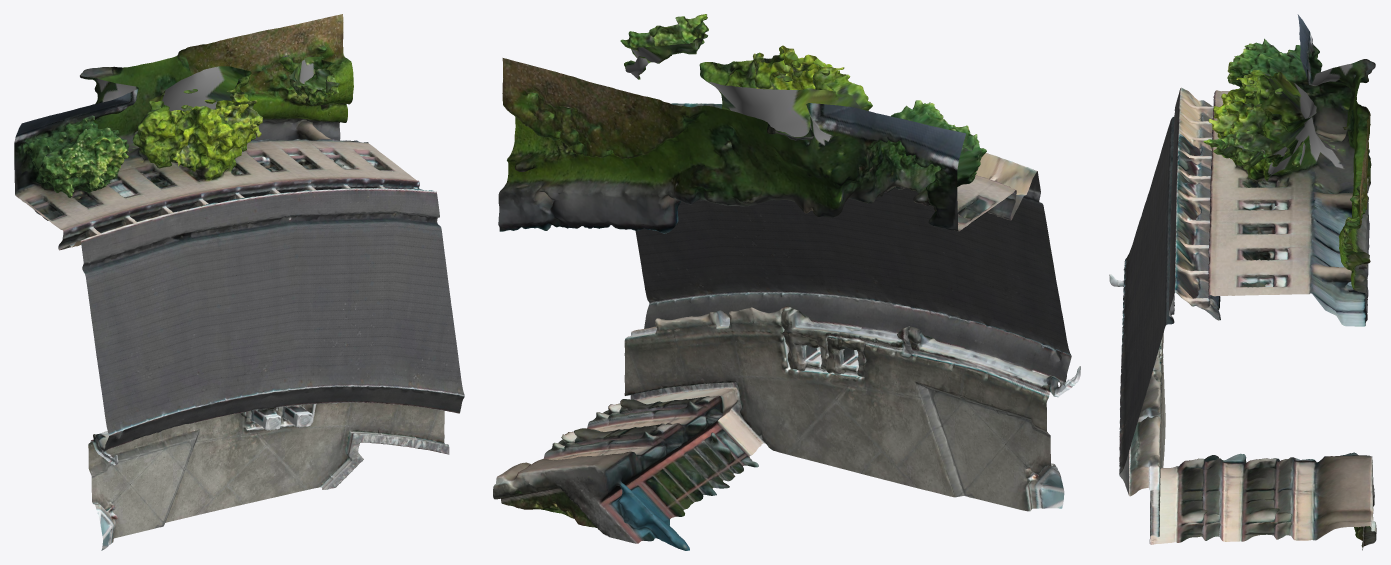
File: Tile_+008_+027.fbx
3 renders of one model, left to right at view 1: azimuth 30°, elevation 25°; view 2: azimuth 150°, elevation 25°; view 3: azimuth 270°, elevation 25°, orthographic. The views are drawn at different scales.
Parts seen in each view (by area): view 1: DefaultName; view 2: DefaultName; view 3: DefaultName.
Part boxes in pixels (x1=…): DefaultName: x1=14, y1=14, x2=464, y2=550; DefaultName: x1=493, y1=14, x2=1080, y2=550; DefaultName: x1=1109, y1=14, x2=1376, y2=550.
Size of the model in its own units: 22.54 by 22.54 by 14.9.
